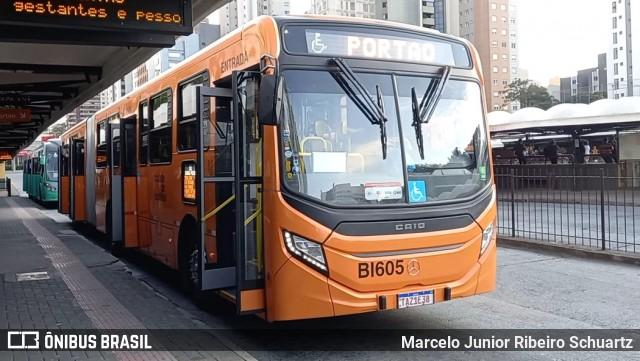PORTAO: (342, 32, 439, 66)
